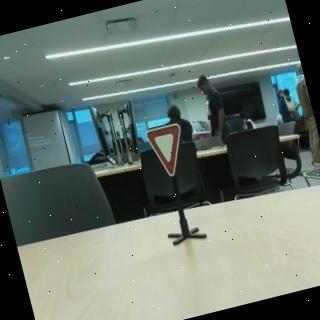sign_yield: (144, 121, 192, 182)
